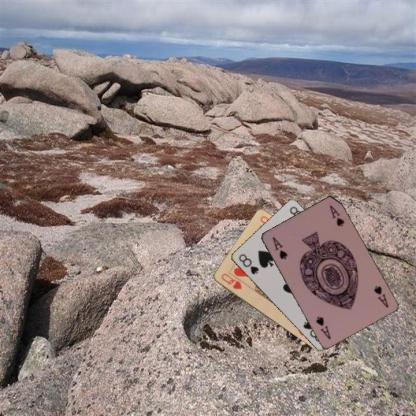8s: (236, 251, 260, 276)
As: (270, 234, 288, 261), (371, 283, 389, 309)
Qh: (218, 271, 244, 291)
